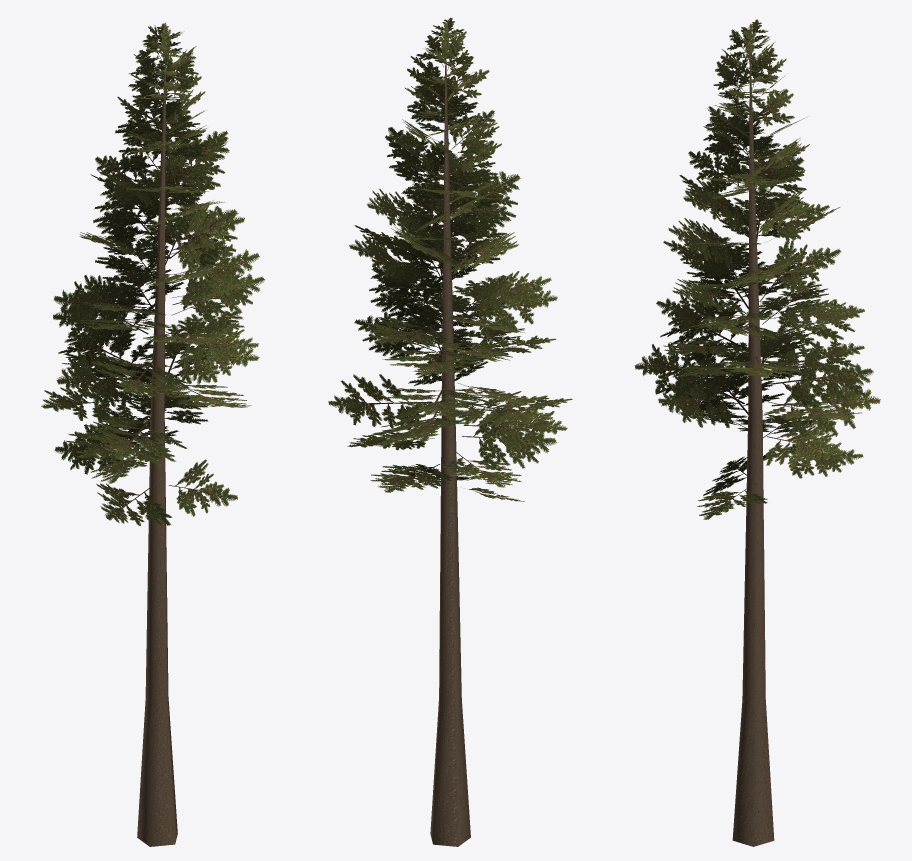
File: fir_giant_b_lod4.gltf
3 renders of one model, left to right at view 1: azimuth 30°, elevation 25°; view 2: azimuth 150°, elevation 25°; view 3: azimuth 270°, elevation 25°, orthographic.
Visible parts, largest first — view 1: fir_giant_b_LOD4; view 2: fir_giant_b_LOD4; view 3: fir_giant_b_LOD4.
Boxes of the visible parts, x1,y1,x2,y2 form: fir_giant_b_LOD4: (41,22,265,846); fir_giant_b_LOD4: (328,17,572,846); fir_giant_b_LOD4: (634,19,880,846).
Bounding box in the file's own units: 13.25 × 44.6 × 13.73.
Materials: 2 (2 with a texture image).
